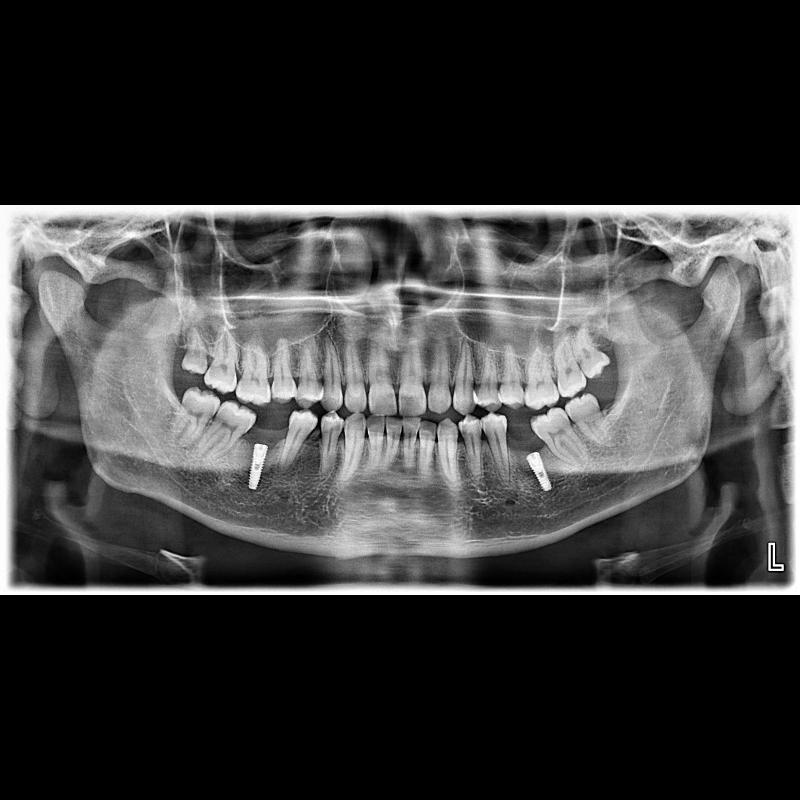osstem: (526, 450, 554, 492), (250, 443, 272, 490)
